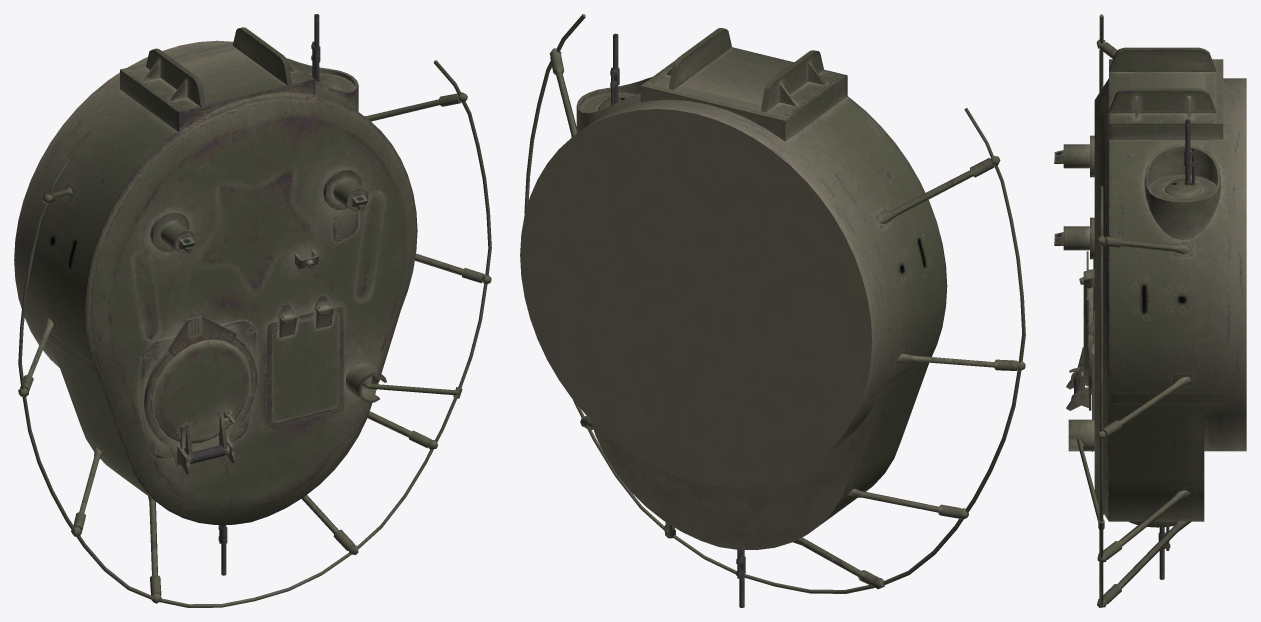
Rendered from Turret_01.glb.
3 views of the same model, side by side, from view 1: azimuth 30°, elevation 25°; view 2: azimuth 150°, elevation 25°; view 3: azimuth 270°, elevation 25° (orthographic). The views are drawn at different scales.
Parts seen in each view (by area): view 1: set_0_group_0; view 2: set_0_group_0; view 3: set_0_group_0.
Part boxes in pixels (<box>): set_0_group_0: <box>14,14,491,607</box>; set_0_group_0: <box>520,14,1025,607</box>; set_0_group_0: <box>1054,14,1246,607</box>.
Size of the model in its own units: 2.55 by 2.71 by 0.9213.
Materials: 1 (1 with a texture image).
